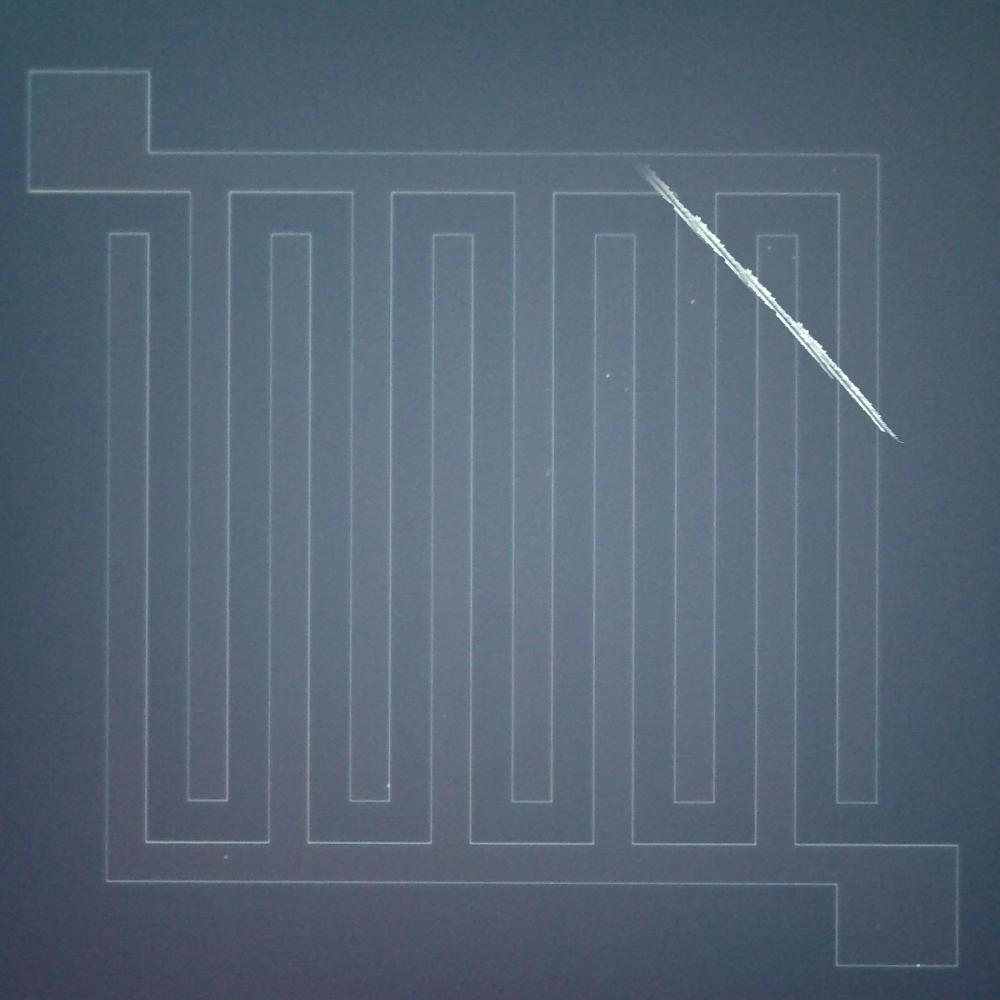scratch: (624, 157, 915, 456)
